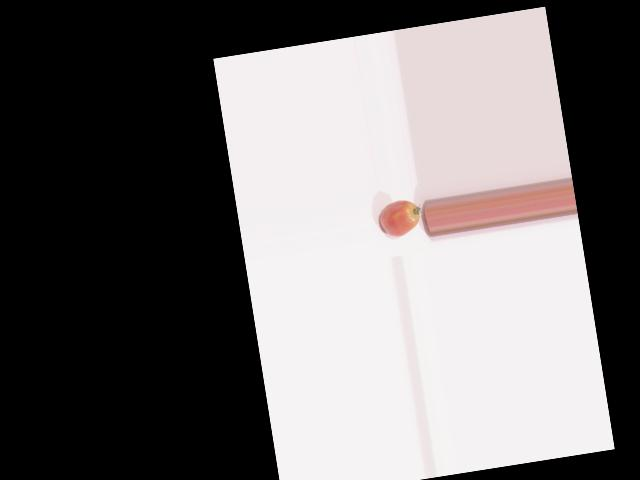tomato: (378, 198, 422, 239)
